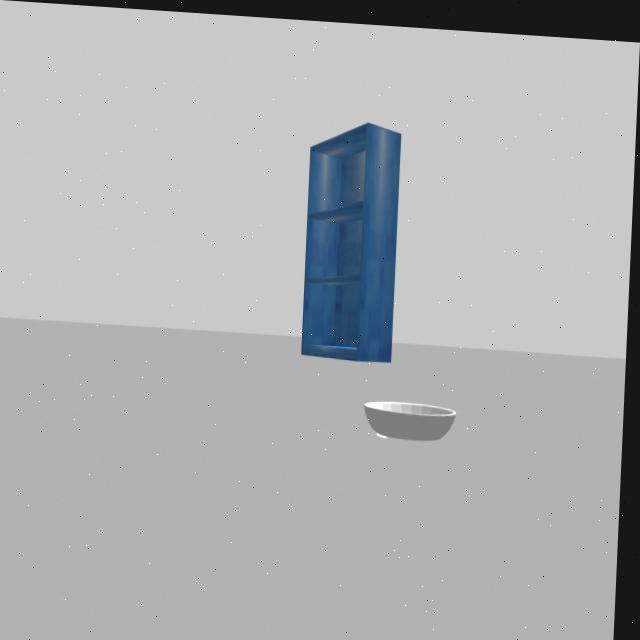bowl: (355, 384, 478, 439)
shelf: (290, 104, 411, 372)
